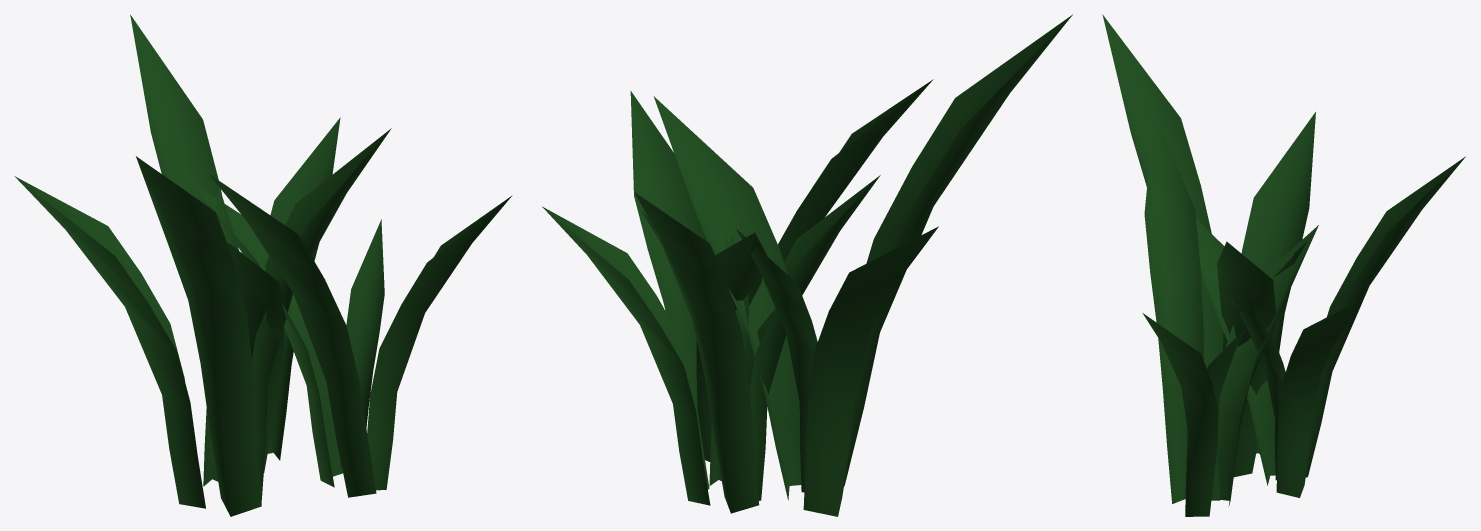
The model's file is Small Grass Cluster.fbx.
3 renders of one model, left to right at view 1: azimuth 30°, elevation 25°; view 2: azimuth 150°, elevation 25°; view 3: azimuth 270°, elevation 25°, orthographic. The views are drawn at different scales.
Visible parts, largest first — view 1: pasted__pasted__pPlane1 (×3), pasted__pasted__pasted__pPlane1 (×2), pasted__pPlane1 (×2), pasted__pasted__pasted__pasted__pPlane1 (×2), pPlane1, pasted__pasted__pasted__pasted__pasted__pPlane1; view 2: pasted__pasted__pasted__pPlane1 (×3), pasted__pasted__pPlane1 (×3), pasted__pPlane1 (×2), pPlane1, pasted__pasted__pasted__pasted__pPlane1, pasted__pasted__pasted__pasted__pasted__pPlane1; view 3: pasted__pPlane1 (×2), pasted__pasted__pPlane1 (×3), pasted__pasted__pasted__pPlane1 (×3), pasted__pasted__pasted__pasted__pPlane1 (×2), pPlane1.
Boxes of the visible parts, x1,y1,x2,y2 form: pasted__pasted__pPlane1 (×3): [136, 156, 342, 516]; pasted__pasted__pasted__pPlane1 (×2): [14, 176, 512, 508]; pasted__pPlane1 (×2): [209, 117, 376, 497]; pasted__pasted__pasted__pasted__pPlane1 (×2): [252, 128, 391, 500]; pPlane1: [130, 14, 222, 205]; pasted__pasted__pasted__pasted__pasted__pPlane1: [203, 186, 239, 486]; pasted__pasted__pasted__pPlane1 (×3): [630, 91, 938, 516]; pasted__pasted__pPlane1 (×3): [696, 14, 1072, 500]; pasted__pPlane1 (×2): [542, 79, 933, 505]; pPlane1: [634, 192, 759, 513]; pasted__pasted__pasted__pasted__pPlane1: [653, 96, 801, 500]; pasted__pasted__pasted__pasted__pasted__pPlane1: [736, 229, 817, 492]; pasted__pPlane1 (×2): [1144, 112, 1361, 503]; pasted__pasted__pPlane1 (×3): [1102, 14, 1318, 506]; pasted__pasted__pasted__pPlane1 (×3): [1142, 112, 1315, 516]; pasted__pasted__pasted__pasted__pPlane1 (×2): [1207, 241, 1275, 500]; pPlane1: [1305, 156, 1465, 477].
Size of the model in its own units: 1.85 by 1.97 by 1.7.
